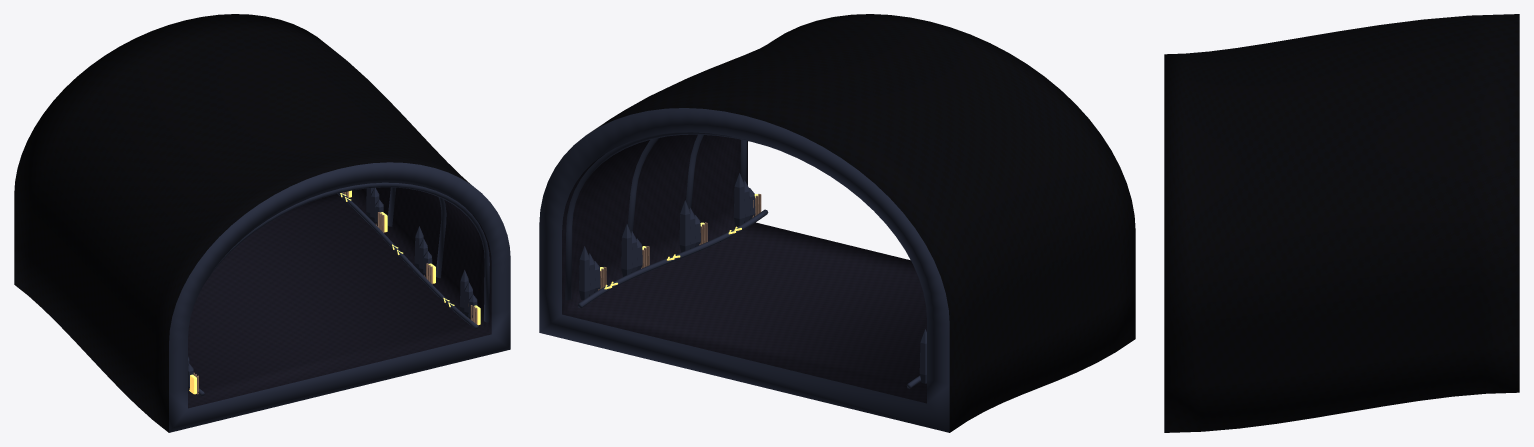
The model's file is grade_up.glb.
3 views of the same model, side by side, from view 1: azimuth 30°, elevation 25°; view 2: azimuth 150°, elevation 25°; view 3: azimuth 270°, elevation 25° (orthographic). The views are drawn at different scales.
Parts seen in each view (by area): view 1: TunnelGeometry; view 2: TunnelGeometry; view 3: TunnelGeometry.
Part boxes in pixels (x1,y1,x2,y2): TunnelGeometry: [14, 14, 510, 432]; TunnelGeometry: [539, 14, 1135, 432]; TunnelGeometry: [1164, 14, 1519, 432].
Size of the model in its own units: 15.3 by 11.02 by 12.
Materials: 5 (2 with a texture image).
